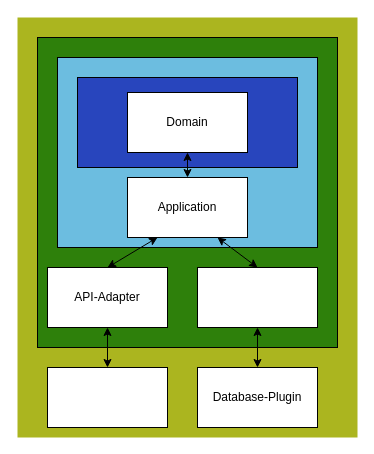
Some shapes in this 374 by 454 pixel diagram are drawn without their labels. Here are the shapes that lost their labels. From the top down, the centre of each, then its label:
At point (257, 297): "Database-Adapter".
At point (107, 397): "API-Plugin".
